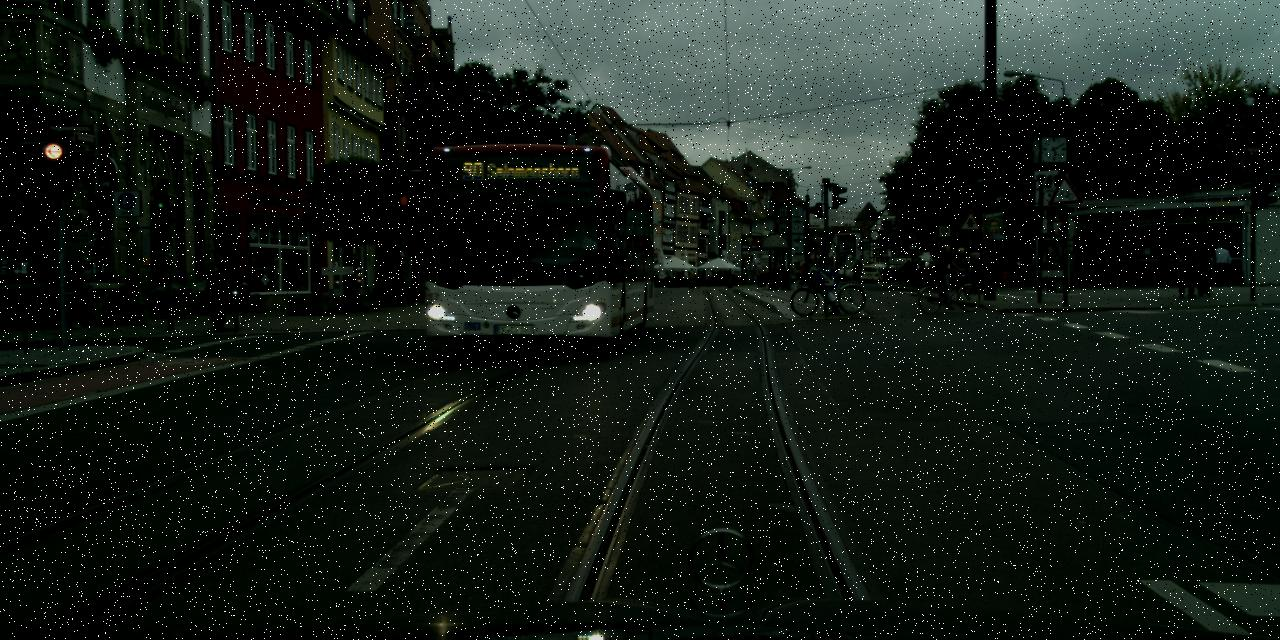ped: (202, 250, 234, 330), (1174, 228, 1202, 296), (814, 245, 841, 311), (1190, 230, 1216, 294), (934, 244, 959, 307), (951, 247, 971, 297), (964, 245, 984, 294), (1212, 240, 1230, 286), (903, 259, 913, 283), (755, 262, 764, 286), (777, 265, 785, 290), (688, 266, 696, 288), (918, 260, 926, 280), (883, 264, 890, 282), (1002, 266, 1009, 284), (769, 277, 773, 289)
